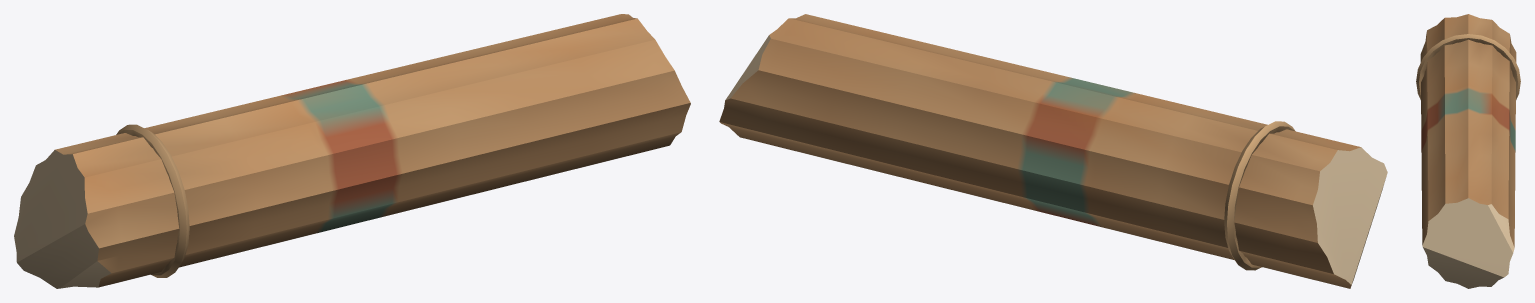
The model's file is log_desert.glb.
The picture shows the model from 3 angles, left to right: view 1: azimuth 30°, elevation 25°; view 2: azimuth 150°, elevation 25°; view 3: azimuth 270°, elevation 25°; orthographic projection. The views are drawn at different scales.
Parts seen in each view (by area): view 1: log_desert; view 2: log_desert; view 3: log_desert.
Part boxes in pixels (bbox=[...]): log_desert: bbox=[14, 14, 690, 288]; log_desert: bbox=[719, 14, 1387, 288]; log_desert: bbox=[1416, 14, 1520, 288].
Size of the model in its own units: 4 by 0.852 by 0.852.
